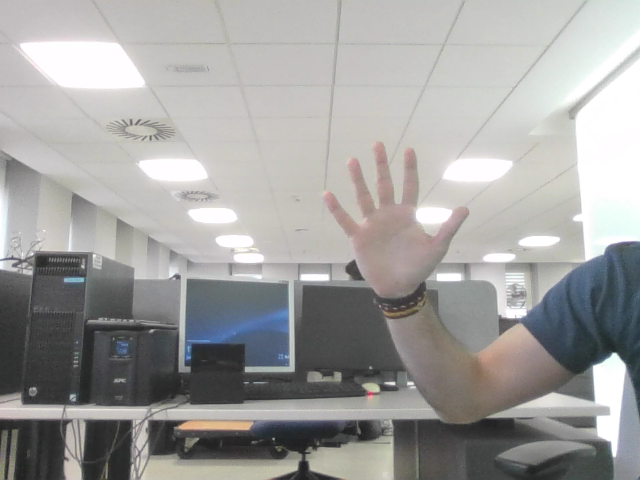Mano Abierta: (335, 154, 455, 264)
